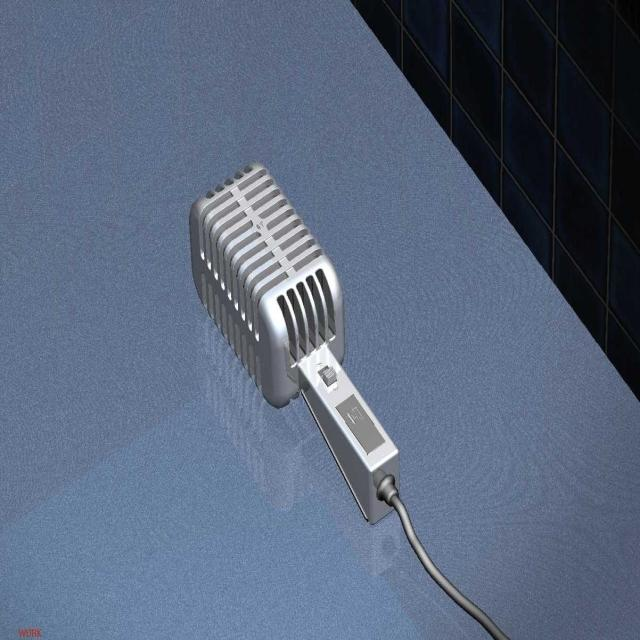microphone: (185, 162, 384, 517)
